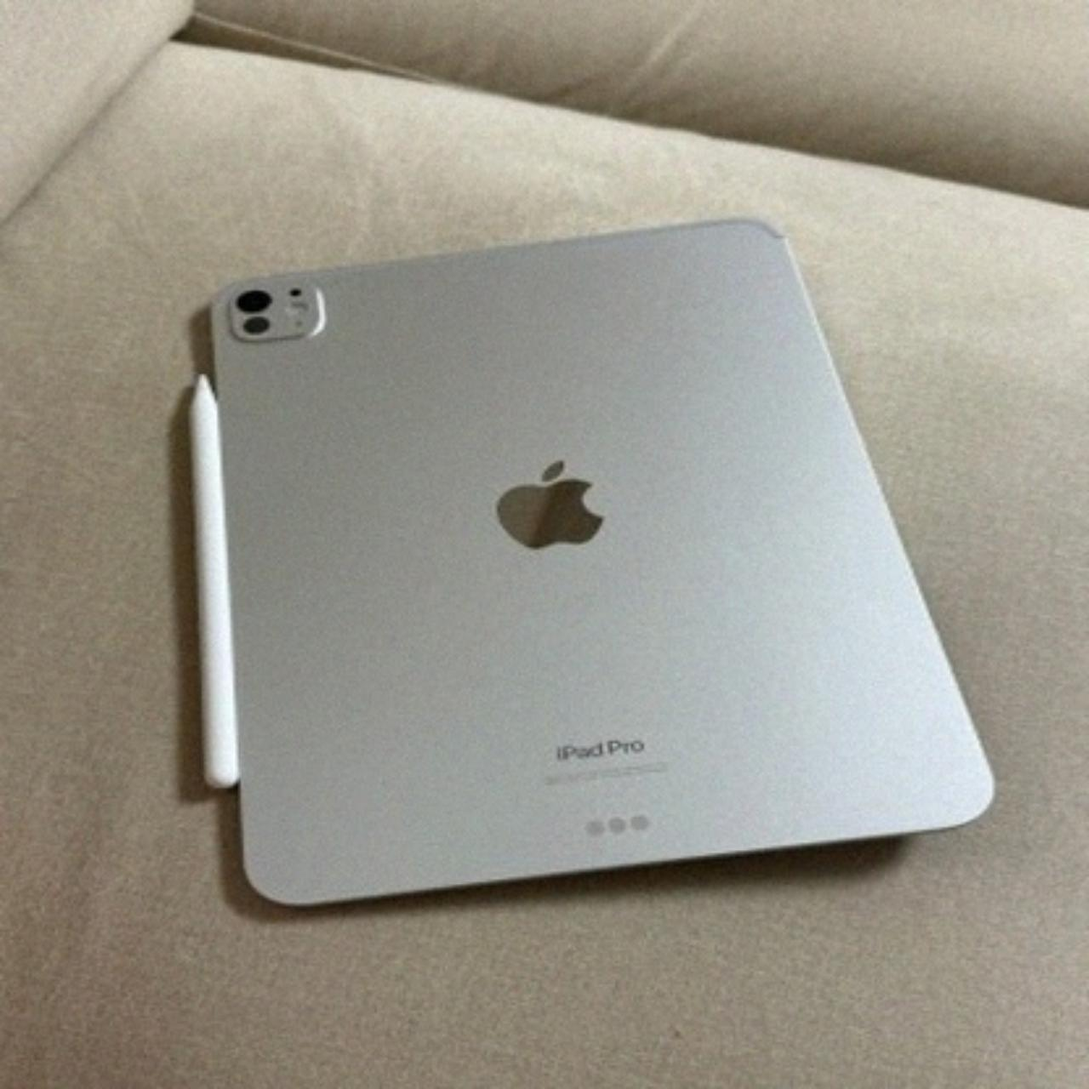Tablet_PC: (152, 209, 1013, 900)
